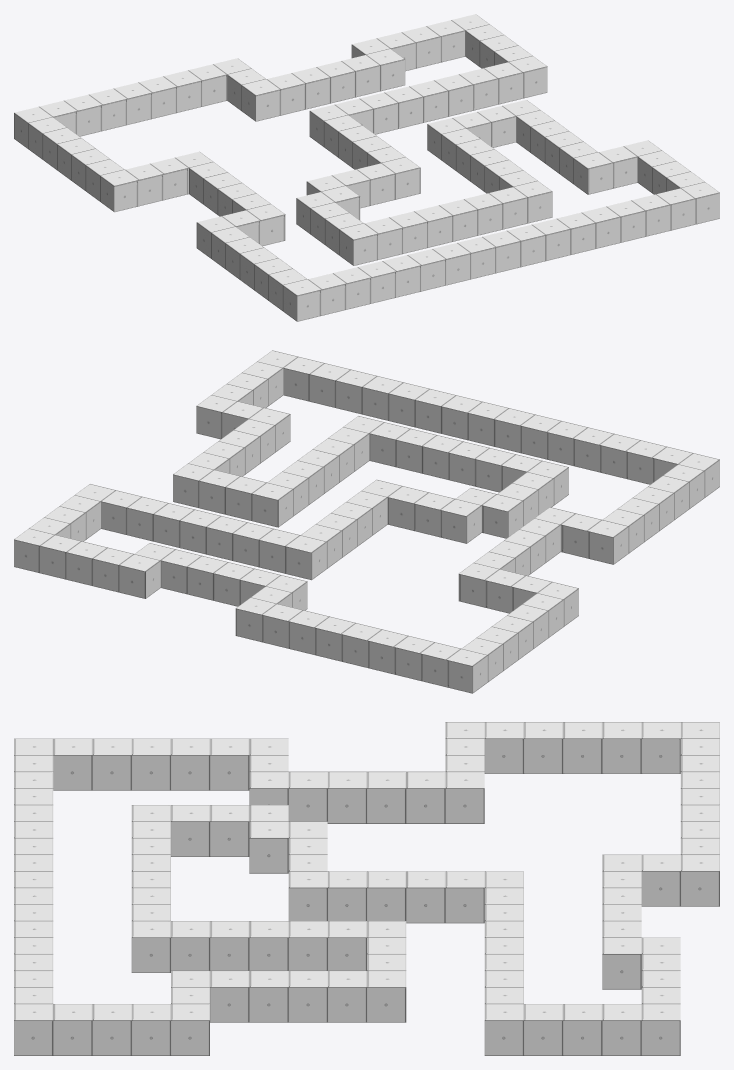
Rendered from Maze.FBX.
The picture shows the model from 3 angles, top to bottom: view 1: azimuth 30°, elevation 25°; view 2: azimuth 150°, elevation 25°; view 3: azimuth 270°, elevation 25°; orthographic projection. The views are drawn at different scales.
Visible parts, largest first — view 1: Plane001; view 2: Plane001; view 3: Plane001.
Part boxes in pixels (<box>): Plane001: <box>14,14,719,321</box>; Plane001: <box>14,350,719,693</box>; Plane001: <box>14,722,719,1055</box>.
Bounding box in the file's own units: 90 × 5 × 90.
